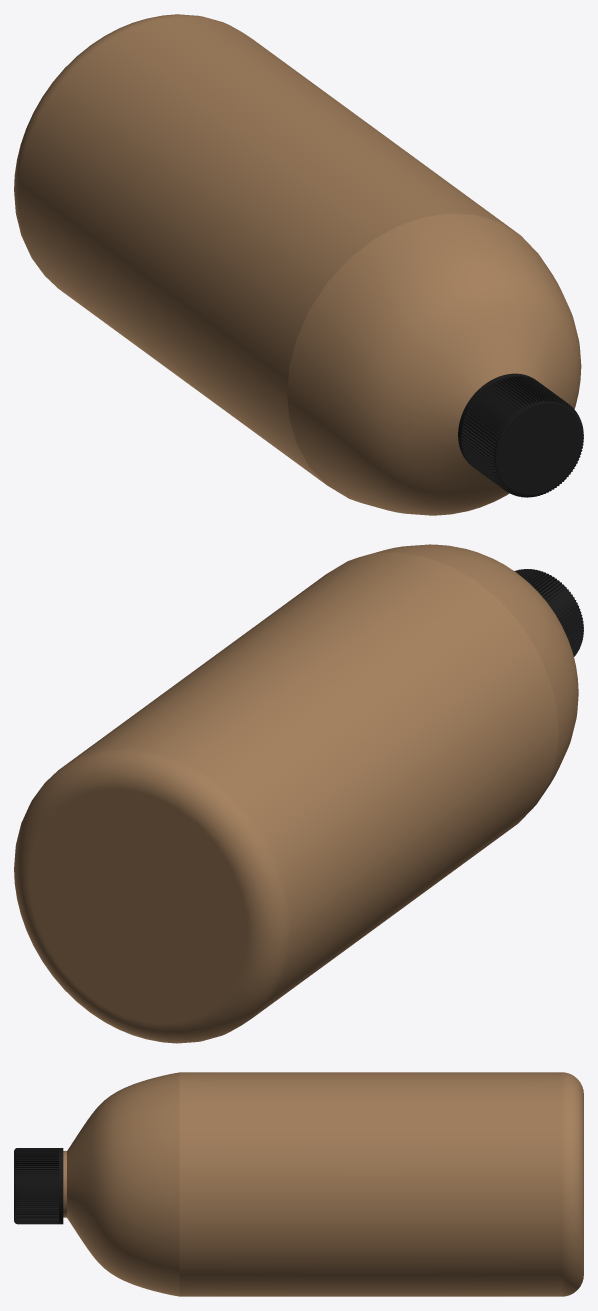
File: Big Bottle .fbx
3 renders of one model, top to bottom at view 1: azimuth 30°, elevation 25°; view 2: azimuth 150°, elevation 25°; view 3: azimuth 270°, elevation 25°, orthographic. The views are drawn at different scales.
Parts seen in each view (by area): view 1: Body1 (×2); view 2: Body1 (×2); view 3: Body1 (×2).
Boxes of the visible parts, left/top/right/bottom form: Body1 (×2): left=14, top=14, right=583, bottom=515; Body1 (×2): left=14, top=544, right=583, bottom=1043; Body1 (×2): left=14, top=1072, right=583, bottom=1296.
Bounding box in the file's own units: 100 × 100 × 254.
